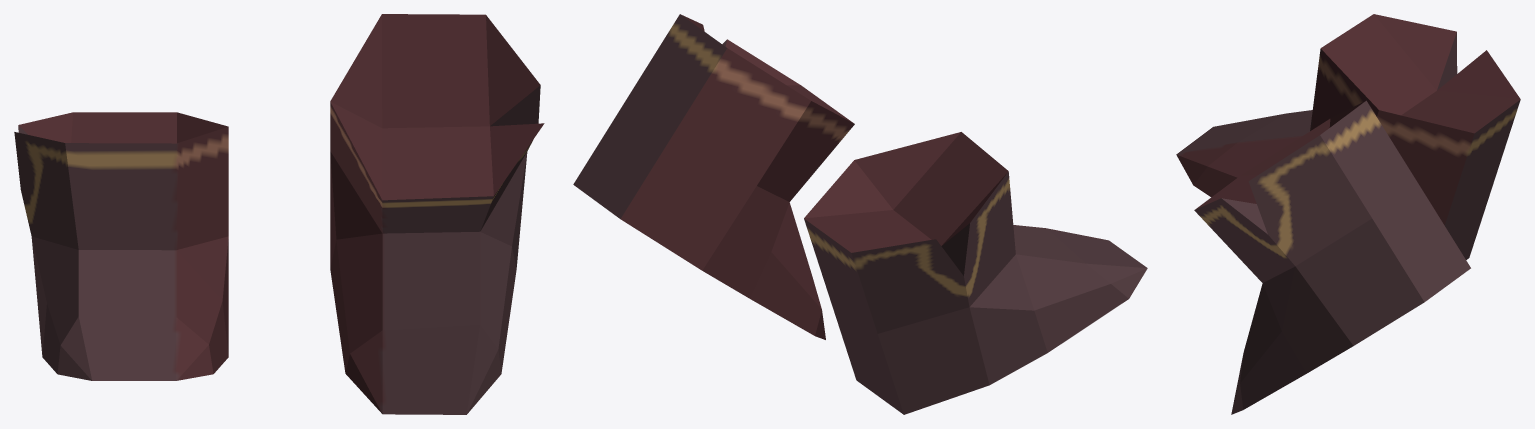
File: Boots.fbx
The picture shows the model from 3 angles, left to right: view 1: azimuth 30°, elevation 25°; view 2: azimuth 150°, elevation 25°; view 3: azimuth 270°, elevation 25°; orthographic projection. The views are drawn at different scales.
Visible parts, largest first — view 1: LilGuyBody.001; view 2: LilGuyBody.001; view 3: LilGuyBody.001.
Boxes of the visible parts, box(x1,y1,x2,y2) form: LilGuyBody.001: box(14, 14, 544, 414); LilGuyBody.001: box(573, 14, 1147, 414); LilGuyBody.001: box(1176, 14, 1520, 414).
Size of the model in its own units: 58.05 by 37.15 by 37.36.
